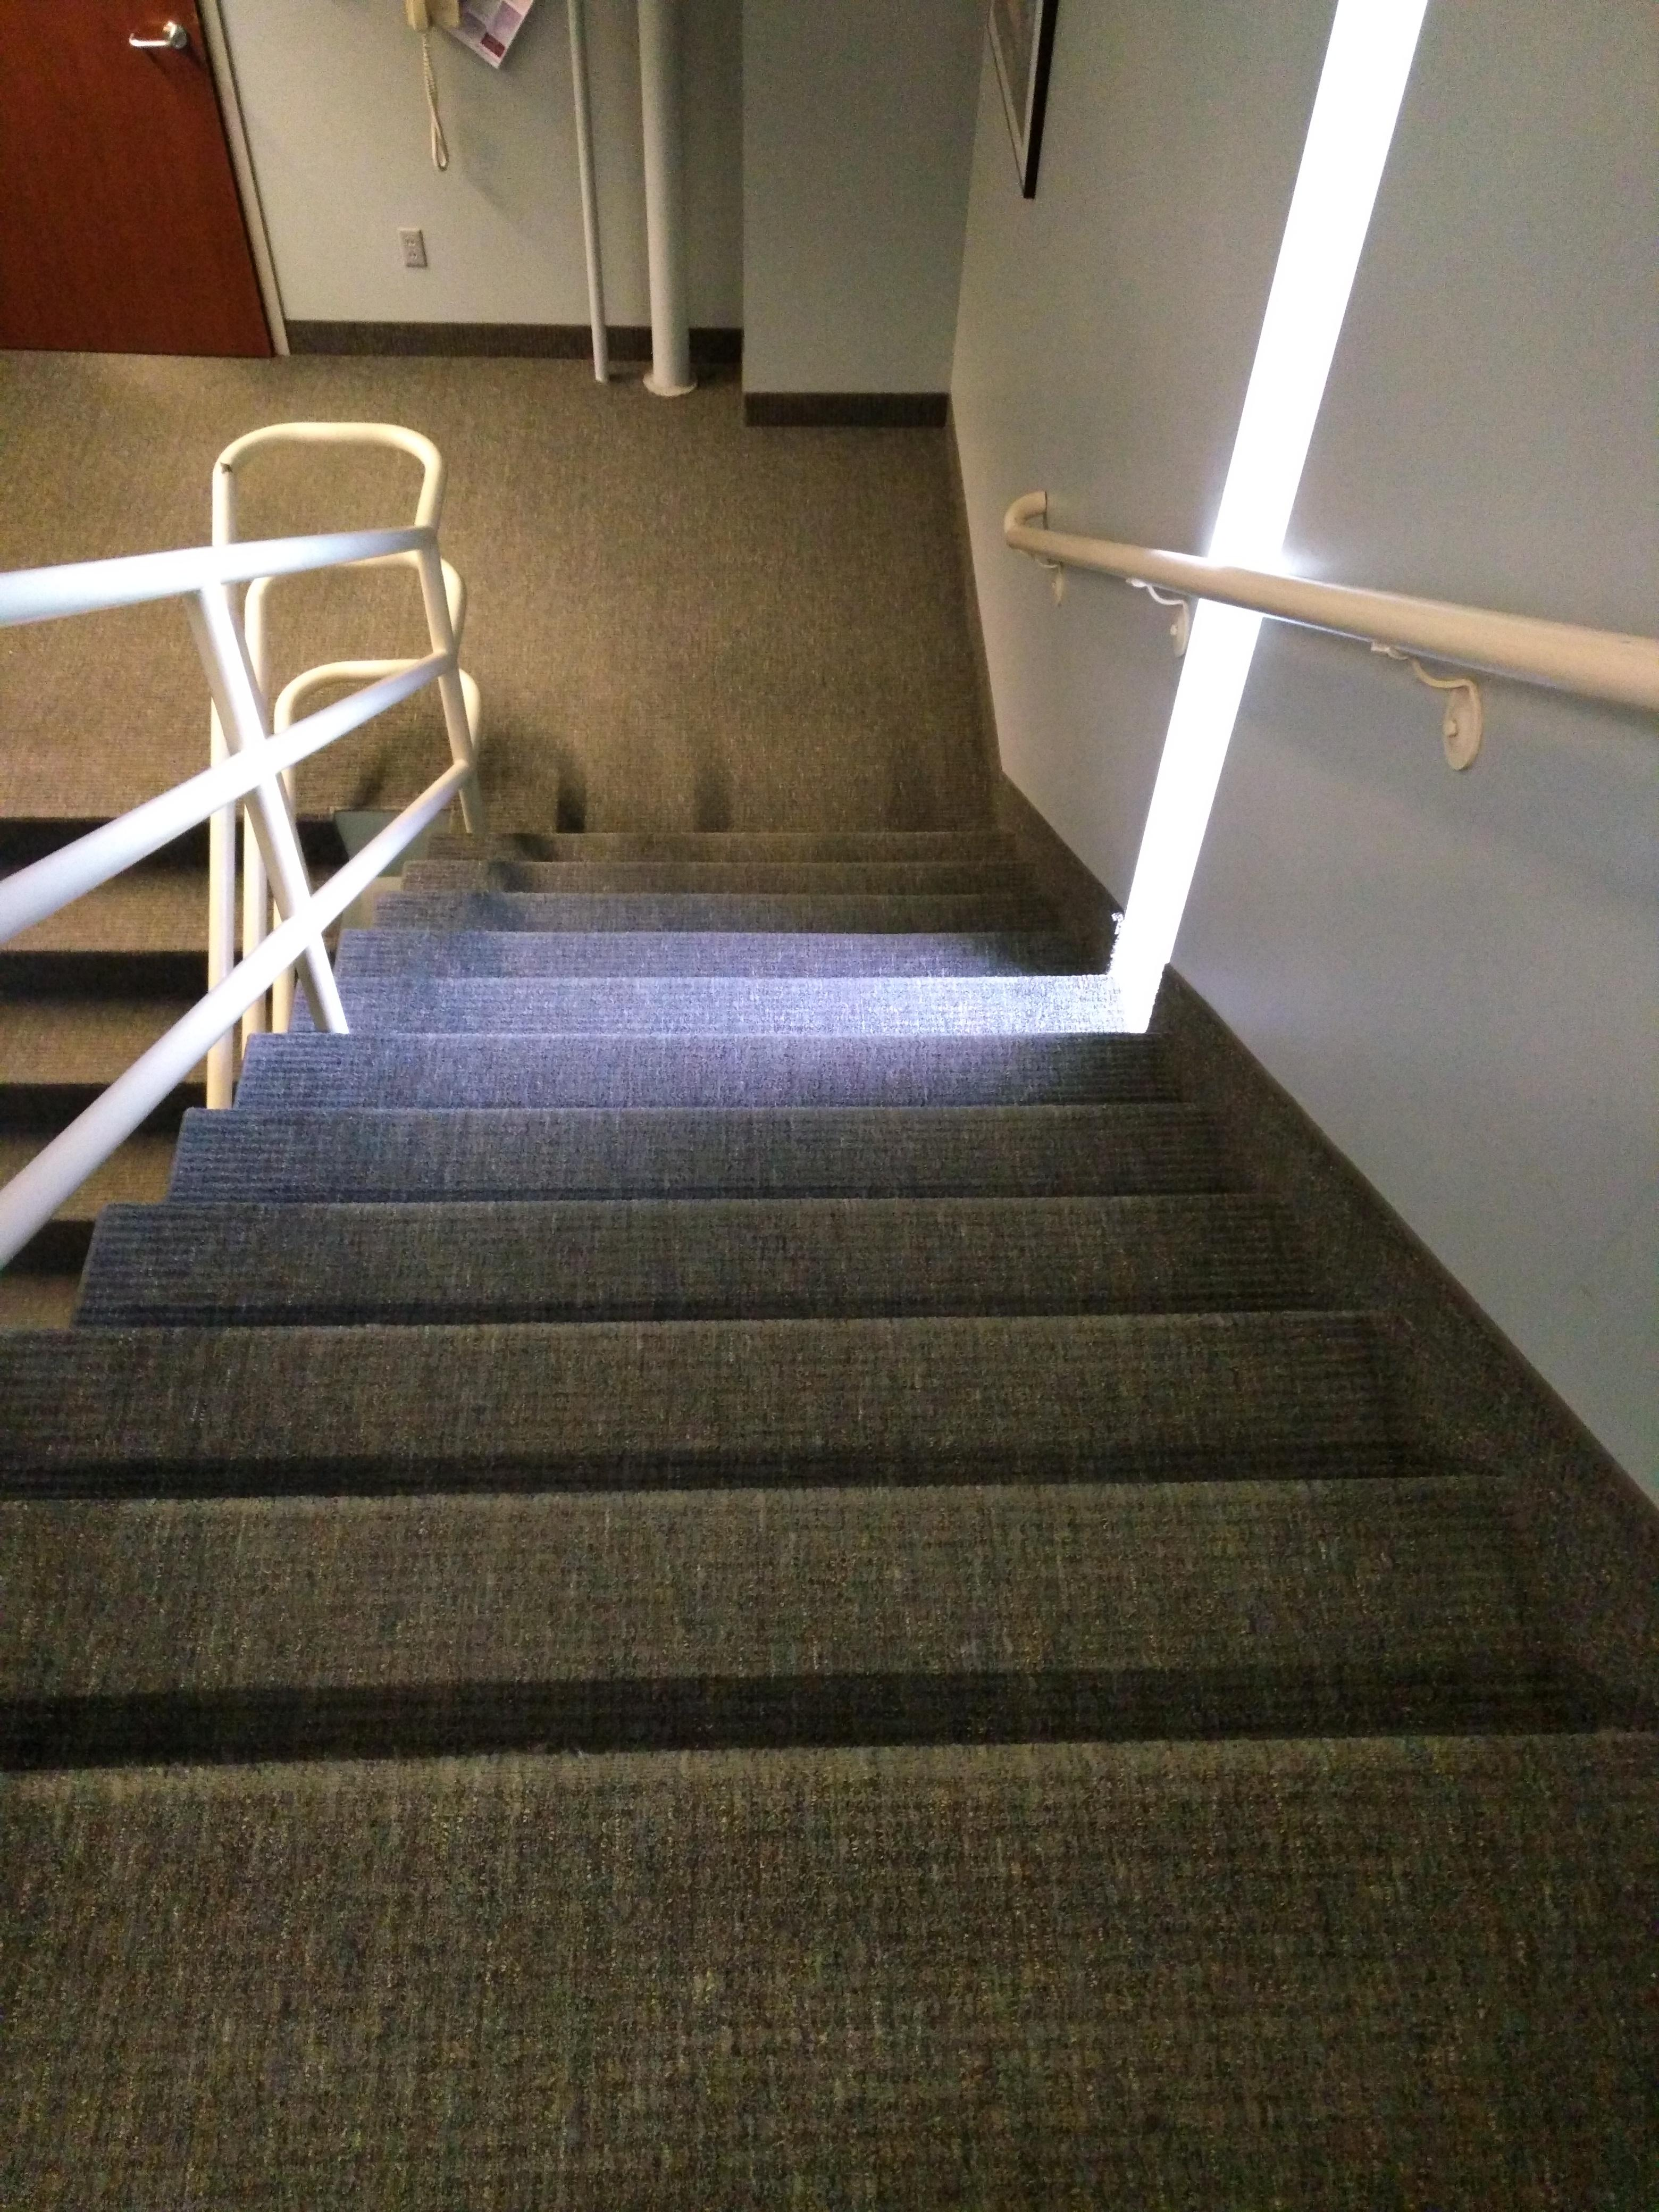stairs_down: (0, 732, 1610, 1895)
